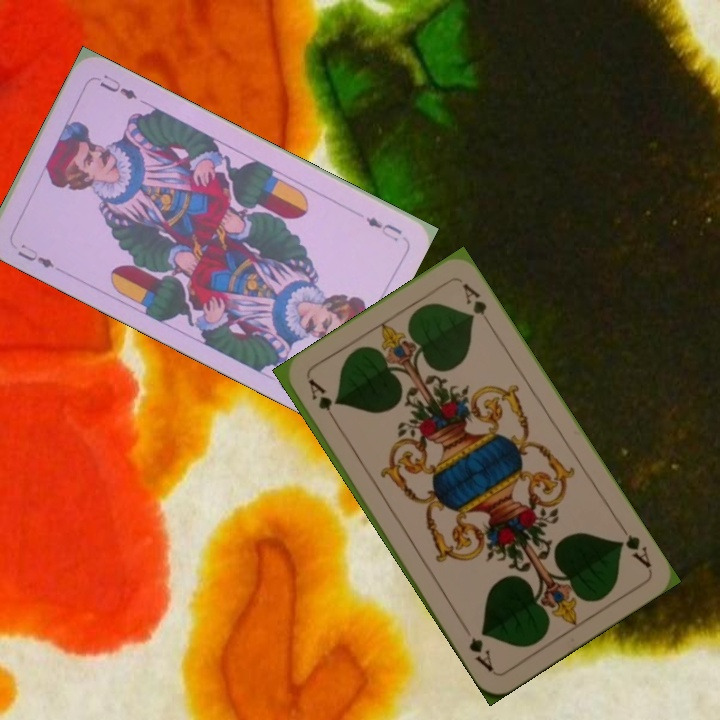EU: (13, 239, 58, 271), (362, 212, 405, 244)
GA: (614, 519, 654, 571), (304, 374, 341, 428)
